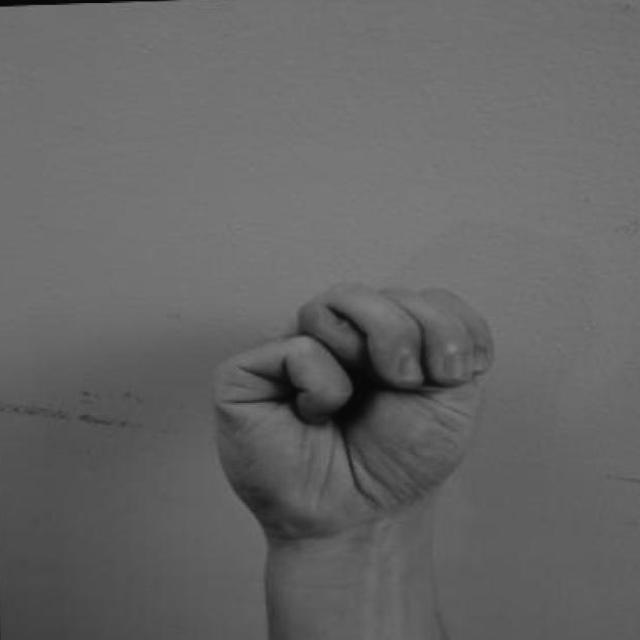M: (196, 274, 506, 569)
